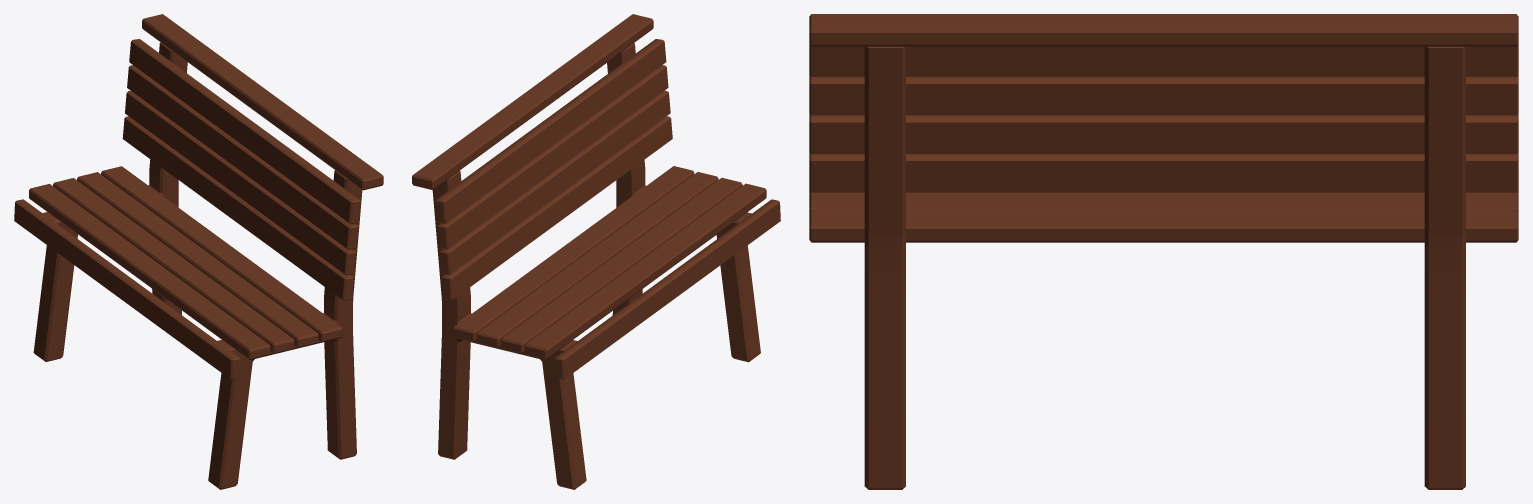
Rendered from bench_04.fbx.
3 views of the same model, side by side, from view 1: azimuth 30°, elevation 25°; view 2: azimuth 150°, elevation 25°; view 3: azimuth 270°, elevation 25° (orthographic). The views are drawn at different scales.
Parts seen in each view (by area): view 1: Cube.010; view 2: Cube.010; view 3: Cube.010.
Boxes of the visible parts, <box> form: Cube.010: <box>14,14,383,489</box>; Cube.010: <box>412,14,780,489</box>; Cube.010: <box>809,14,1518,489</box>.
Bounding box in the file's own units: 209 × 387 × 530.
